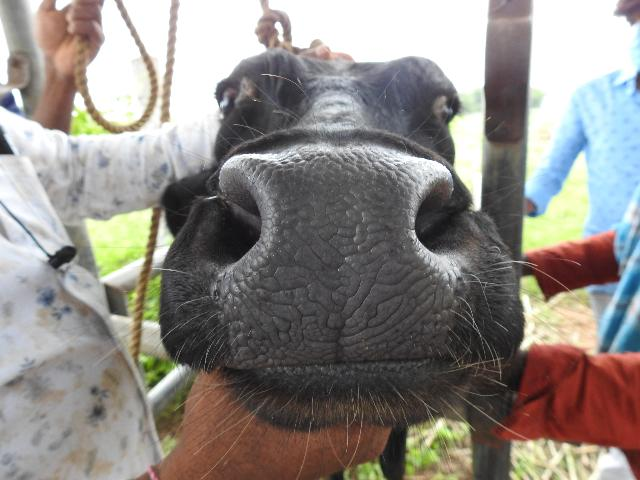Muzzle: (219, 152, 457, 362)
